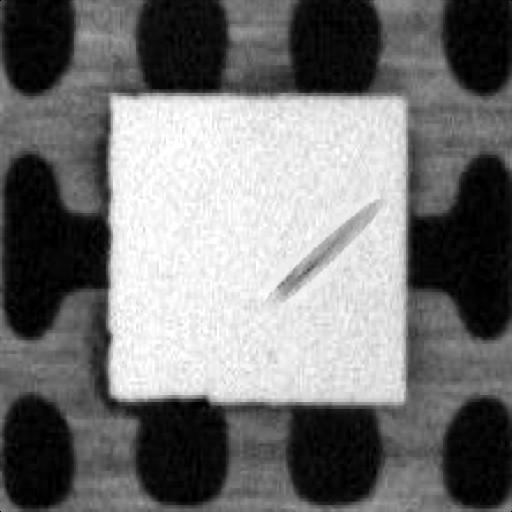DIE_INK: (270, 192, 378, 302)
